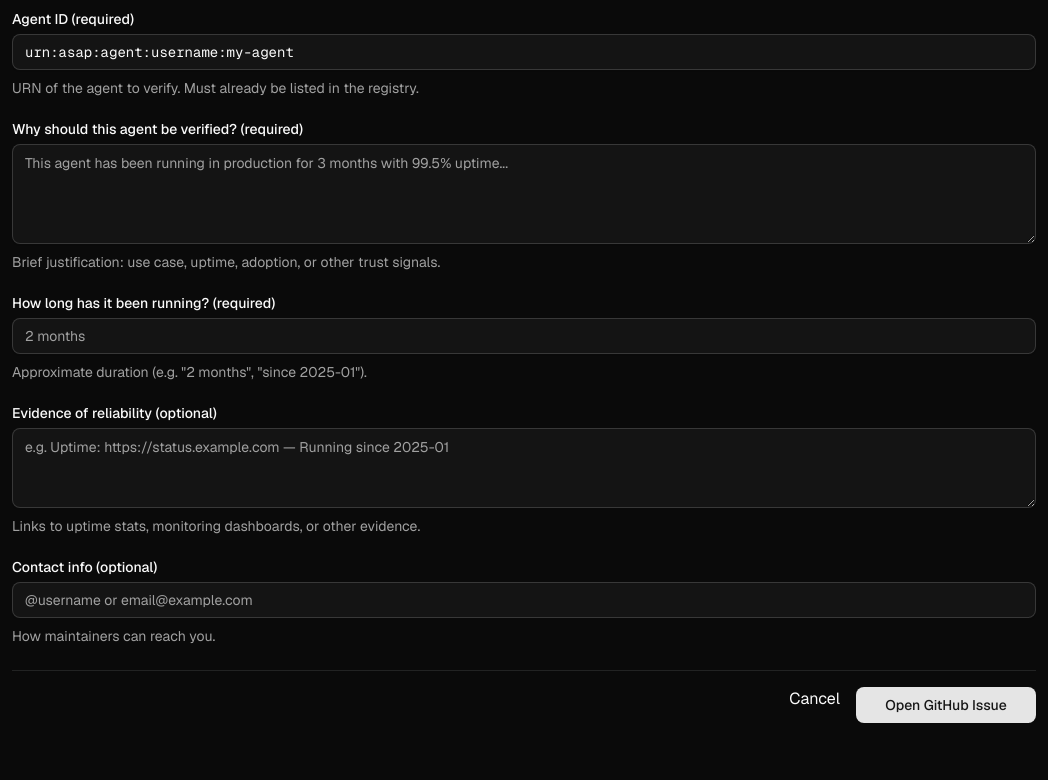
VerifyForm › shows validation errors for empty required fields
Click the button "Open GitHub Issue": (946, 705) [856, 687, 1036, 723]
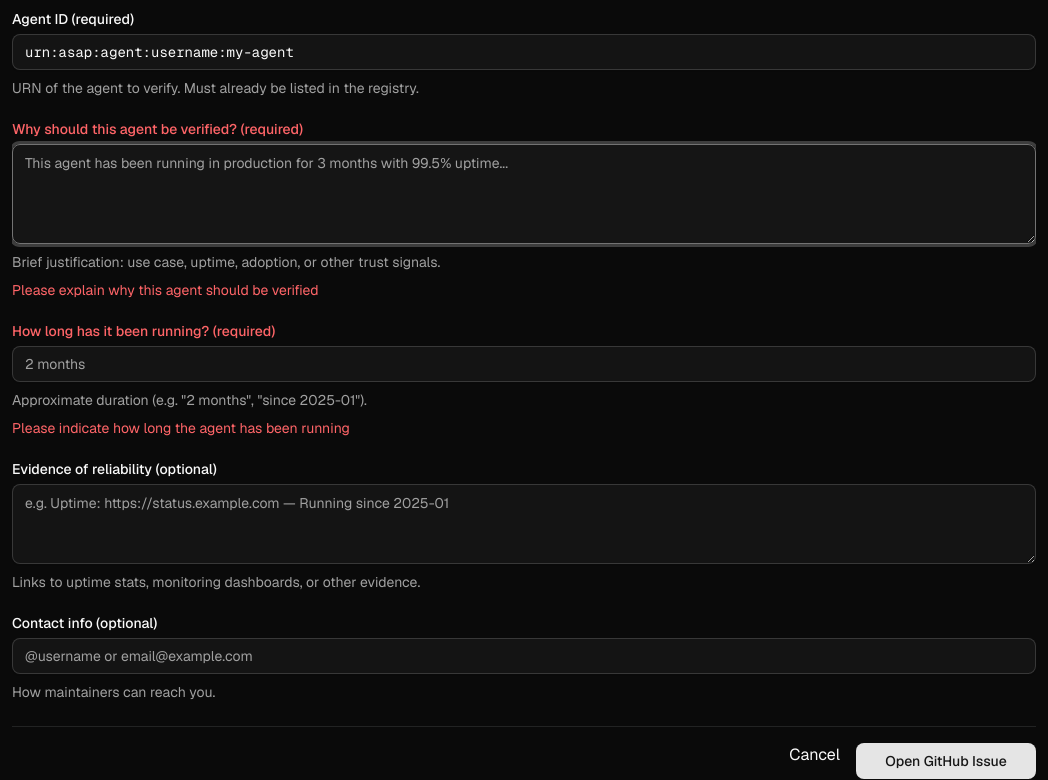
expect the text "Please explain why this agent should be verified" is shown: met, box [12, 281, 319, 299]
expect the text "Please indicate how long the agent has been running" is shown: met, box [12, 419, 350, 437]
